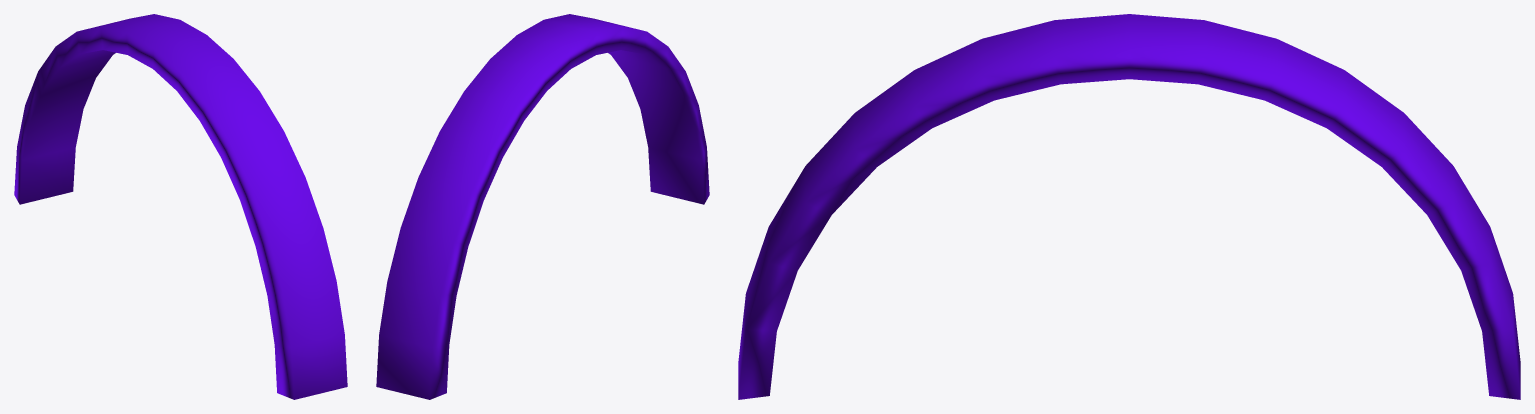
File: Gateway_06_B.fbx
The picture shows the model from 3 angles, left to right: view 1: azimuth 30°, elevation 25°; view 2: azimuth 150°, elevation 25°; view 3: azimuth 270°, elevation 25°; orthographic projection. The views are drawn at different scales.
Parts seen in each view (by area): view 1: Gateway_06_B; view 2: Gateway_06_B; view 3: Gateway_06_B.
Part boxes in pixels (left/top/right/bottom): Gateway_06_B: left=14, top=14, right=347, bottom=399; Gateway_06_B: left=376, top=14, right=709, bottom=399; Gateway_06_B: left=738, top=14, right=1520, bottom=399.
Bounding box in the file's own units: 79.59 × 320 × 651.
